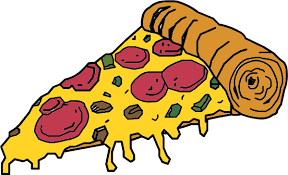pizza: (7, 4, 286, 168)
